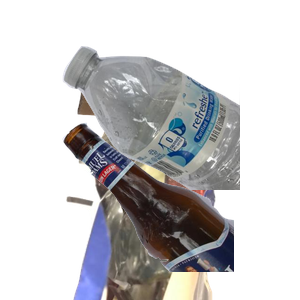cardboard: (75, 59, 237, 176)
glass: (60, 120, 300, 300)
plastic: (60, 44, 300, 224)
trash: (63, 120, 300, 300)
